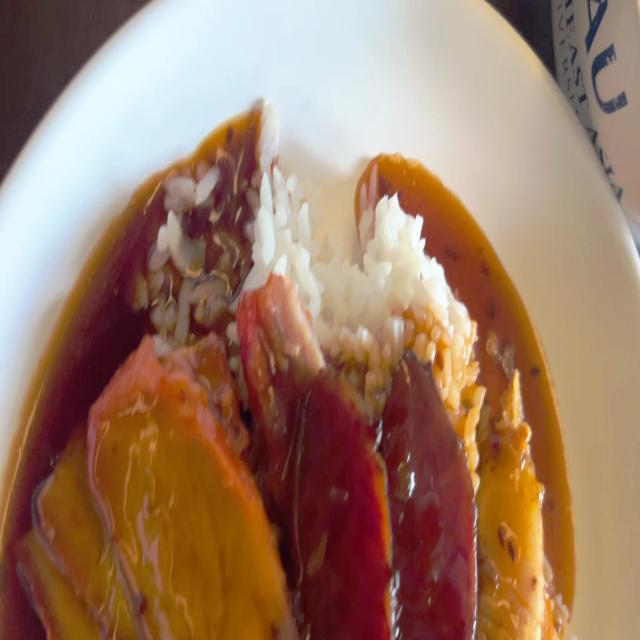chainese_sausage: (288, 362, 479, 640), (282, 360, 397, 640), (388, 364, 475, 627)
crispy_pork: (486, 382, 546, 630)
red_pork: (32, 344, 280, 640), (90, 352, 281, 638), (36, 454, 132, 623), (240, 275, 309, 405)
red_pork_and_crispy_pork: (13, 119, 546, 640)
rice: (320, 187, 468, 342), (256, 139, 343, 326)
